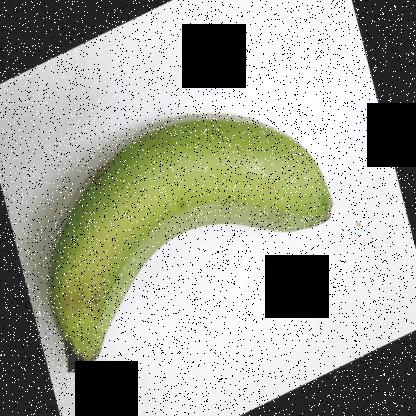freshunripe: (28, 96, 338, 396)
